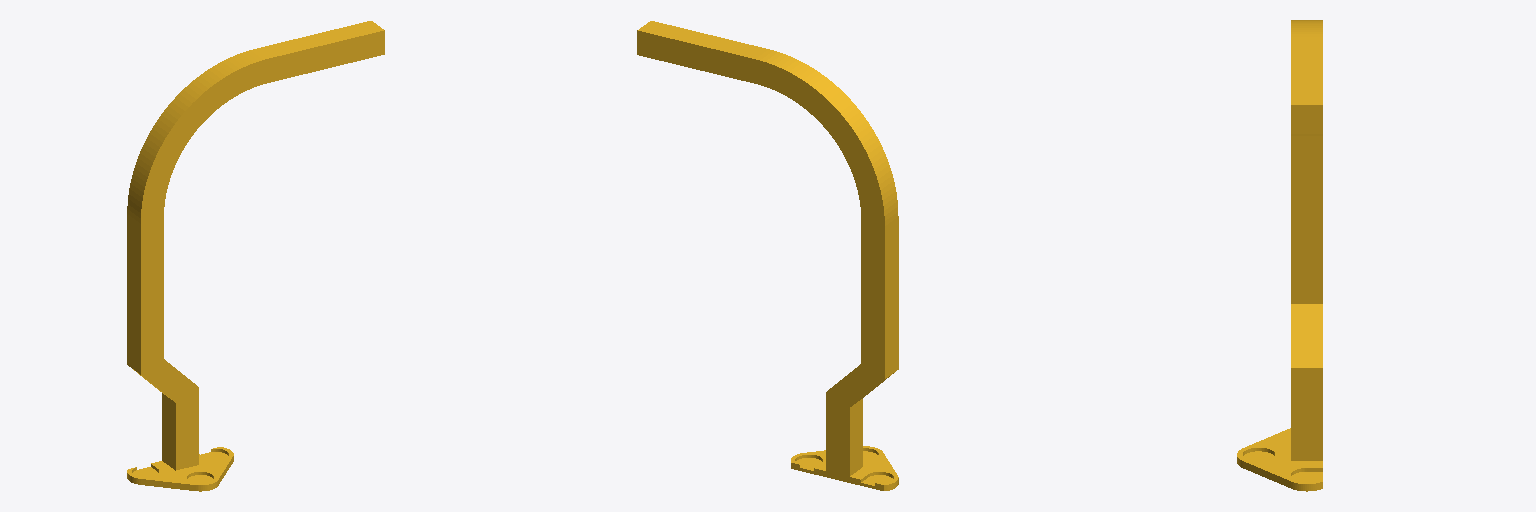
URDF robot description (puzzle_D):
<?xml version="1.0"?>
<!-- puzzle_D: standalone static model from D.step.
     Mesh in millimetres (scale 0.001). Link origin = STEP-file origin, unchanged.
     Mass/inertia assume density 1.24 g/cm^3 -> 31.8 g (material not given in the STEP). -->
<robot name="puzzle_D">
  <material name="puzzle_D_color"><color rgba="0.95 0.75 0.20 1.0"/></material>
  <link name="puzzle_D_link">
    <visual>
      <geometry><mesh filename="meshes/puzzle_D.stl" scale="0.001 0.001 0.001"/></geometry>
      <material name="puzzle_D_color"/>
    </visual>
    <collision>
      <geometry><mesh filename="meshes/puzzle_D.stl" scale="0.001 0.001 0.001"/></geometry>
    </collision>
    <inertial>
      <origin xyz="0.008500 -0.000358 0.094405" rpy="0 0 0"/>
      <mass value="0.03182"/>
      <inertia ixx="9.9725e-05" ixy="-9.6890e-08" ixz="-2.9159e-05" iyy="1.2531e-04" iyz="-1.0915e-06" izz="2.6373e-05"/>
    </inertial>
  </link>
</robot>

--- Render facts (derived) ---
The picture shows the robot from 3 angles, left to right: view 1: azimuth 30°, elevation 25°; view 2: azimuth 150°, elevation 25°; view 3: azimuth 270°, elevation 25°; orthographic projection.
Model puzzle_D with 1 links and 0 joints (none), rooted at puzzle_D_link, posed all joints at 0.
Links seen in each view (by area): view 1: puzzle_D_link; view 2: puzzle_D_link; view 3: puzzle_D_link.
Boxes of the visible links, x1=… form: puzzle_D_link: x1=127, y1=21, x2=384, y2=491; puzzle_D_link: x1=637, y1=21, x2=898, y2=490; puzzle_D_link: x1=1237, y1=20, x2=1322, y2=491.
Size in the robot's own frame: 0.1069 by 0.0269 by 0.1625 metres.
1 mesh visuals loaded from 1 distinct referenced files (1 binary STL).
